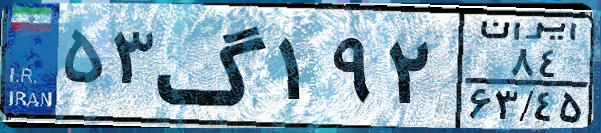1: (270, 28, 330, 110)
2: (385, 28, 445, 110)
3: (110, 28, 156, 98), (495, 70, 520, 125)
4: (537, 27, 568, 80), (535, 70, 560, 125)
5: (57, 26, 110, 100), (560, 70, 590, 125)
6: (470, 70, 495, 125)
8: (508, 27, 537, 80)
9: (330, 28, 385, 110)
گ: (156, 12, 270, 120)
